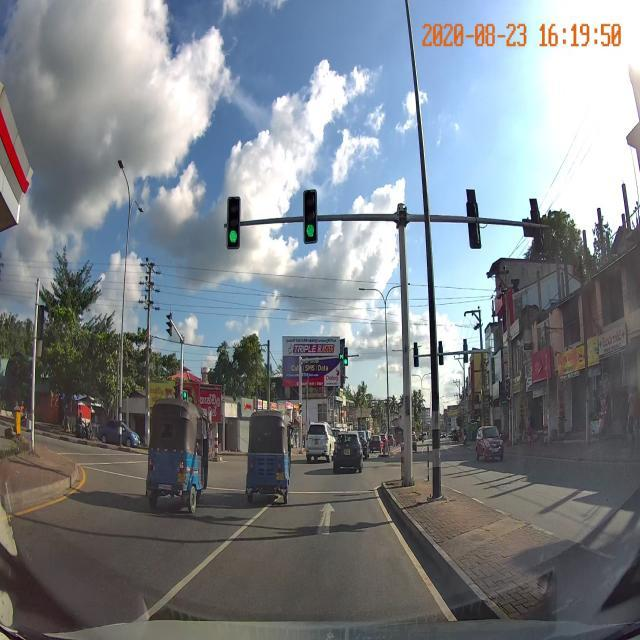forward: (224, 498, 400, 540)
